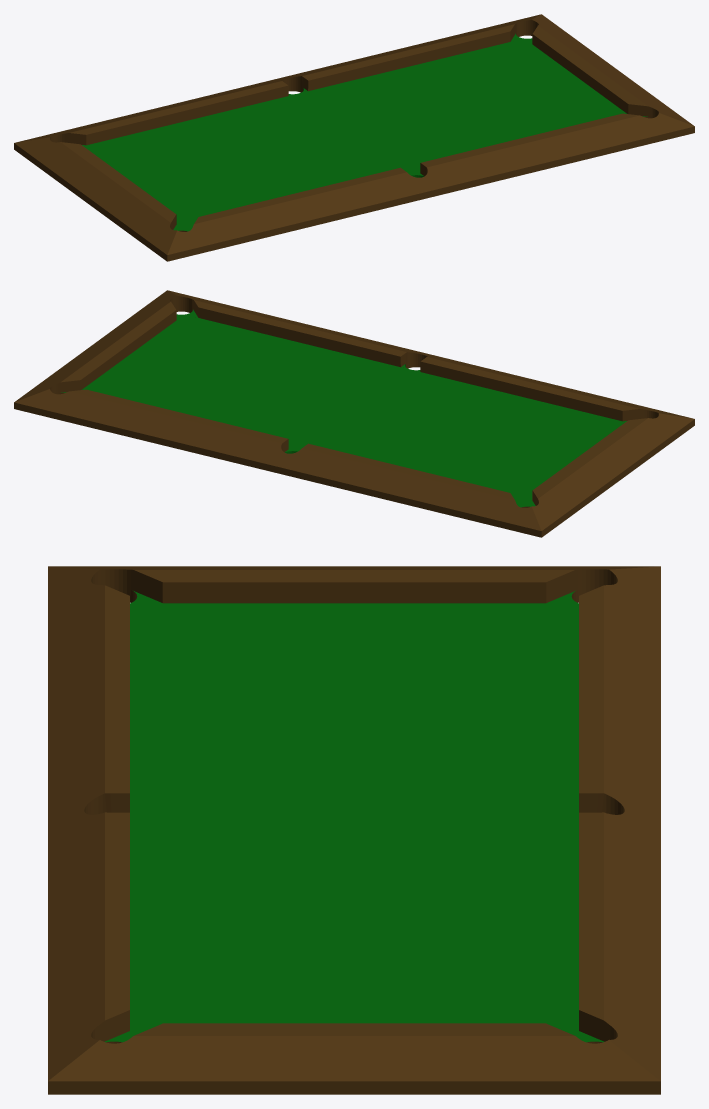
The model's file is billiard1.glb.
3 renders of one model, top to bottom at view 1: azimuth 30°, elevation 25°; view 2: azimuth 150°, elevation 25°; view 3: azimuth 270°, elevation 25°, orthographic. The views are drawn at different scales.
Visible parts, largest first — view 1: Cube; view 2: Cube; view 3: Cube.
Boxes of the visible parts, box(x1,y1,x2,y2) form: Cube: box(14, 14, 694, 261); Cube: box(14, 290, 694, 537); Cube: box(48, 566, 660, 1094).
Bounding box in the file's own units: 19.92 × 0.6164 × 10.03.
